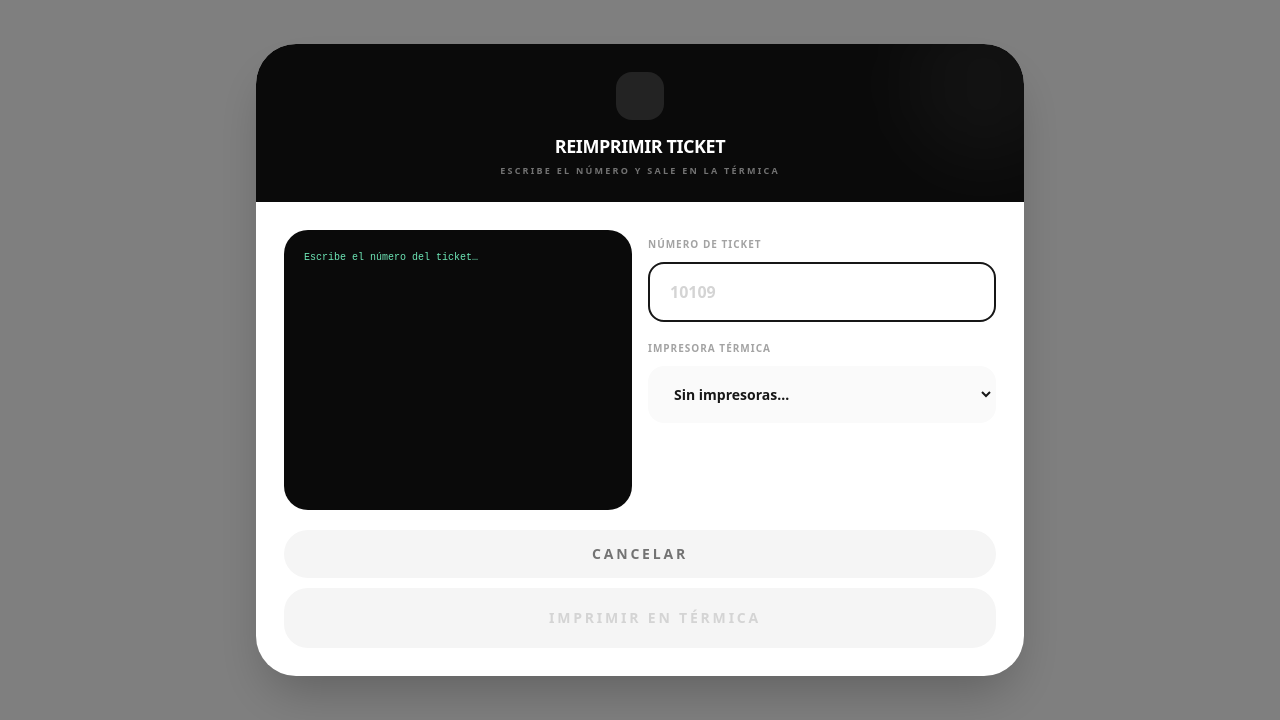
Test: reimprimir · búsqueda › solo acepta dígitos en el campo
The width and height of the screenshot is (1280, 720).
In the field with placeholder "10109": x=822, y=292 [648,262,996,322], type "10a9b"
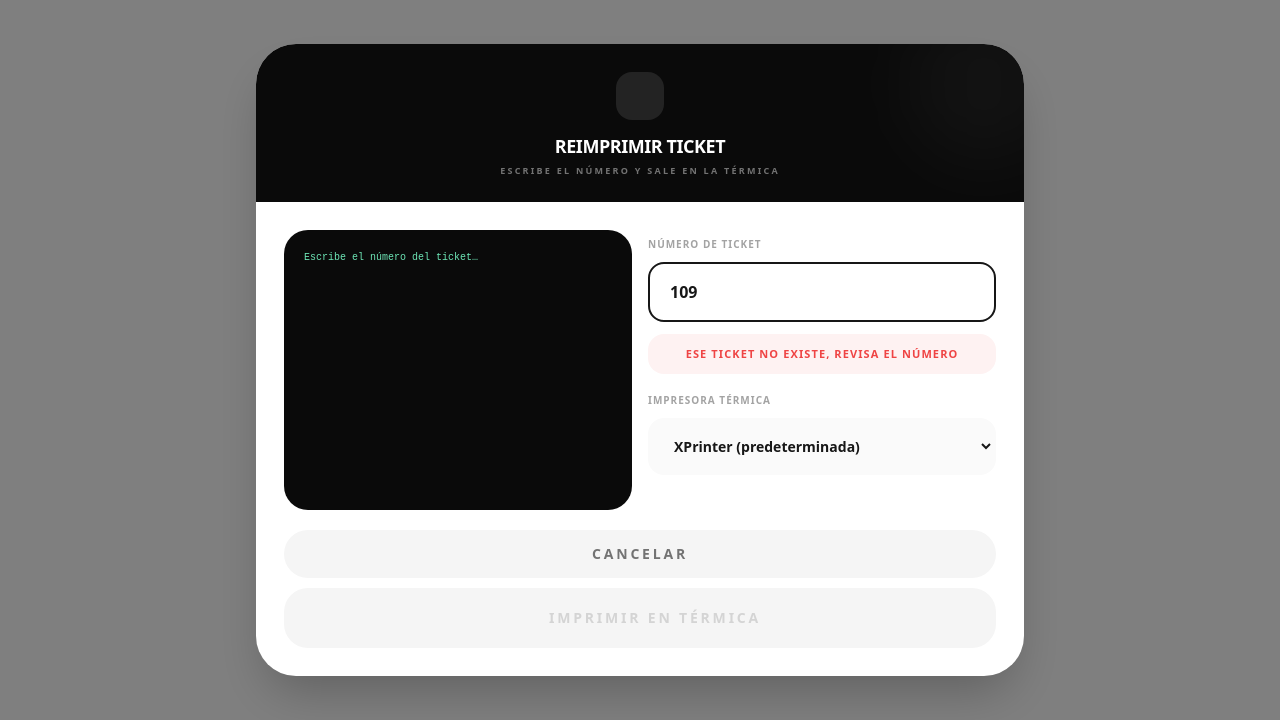
Result: the field with placeholder "10109" holds "109" at [648,262,996,322]
